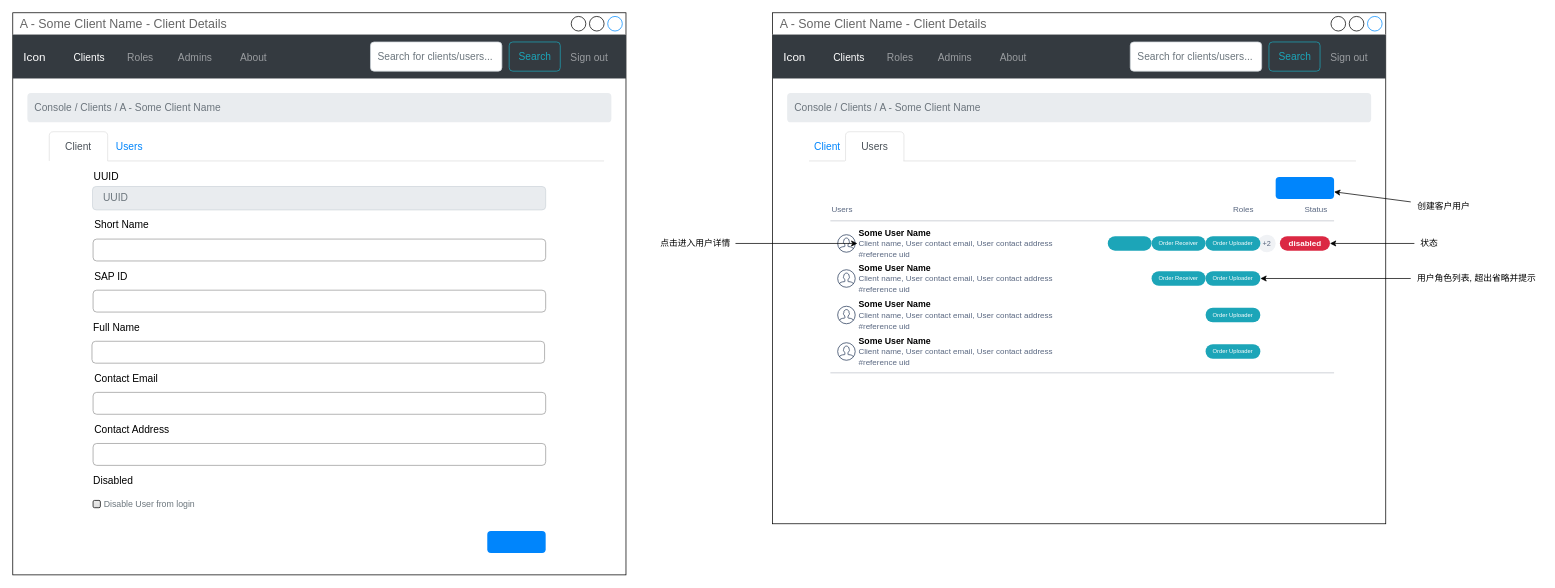
Image size: 1555x588. Some labels were removed from this diagram. Here are the shapes that lost their labels. From the top down, the centre of each, then its label:
(1304,188): Create
(1129,243): Contact
(516,542): Save
